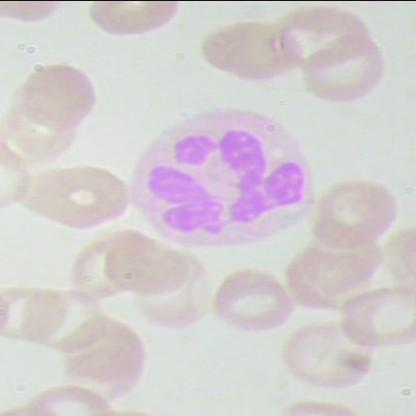RBC: (194, 13, 304, 86), (24, 162, 134, 235), (278, 318, 376, 394), (303, 35, 397, 109), (212, 262, 298, 334), (314, 176, 400, 248), (336, 278, 415, 353), (7, 84, 88, 154), (18, 58, 98, 128), (107, 235, 194, 297), (87, 1, 183, 40)
WBC: (128, 101, 314, 253)
